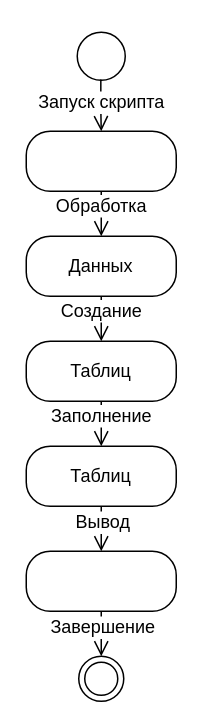
Image size: 203x728. Some labels were removed from this diagram. The centre of each missing label's shape, as x and y in pixels:
Инициализация: [100,160]
Результат заполнения и путь к таблице: [100,580]
